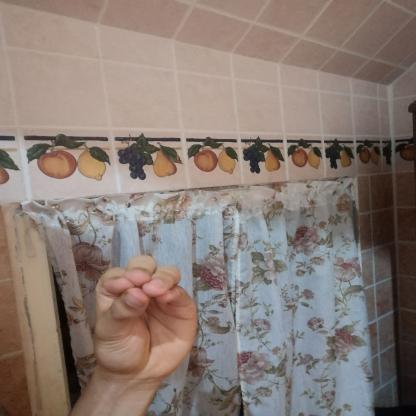HA: (69, 245, 220, 395)
